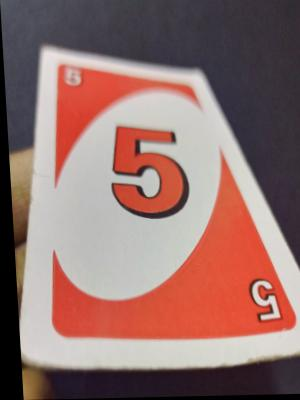num_5: (101, 117, 191, 225), (57, 59, 85, 97)
